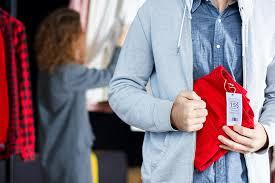shoplifting: (101, 42, 275, 183)
